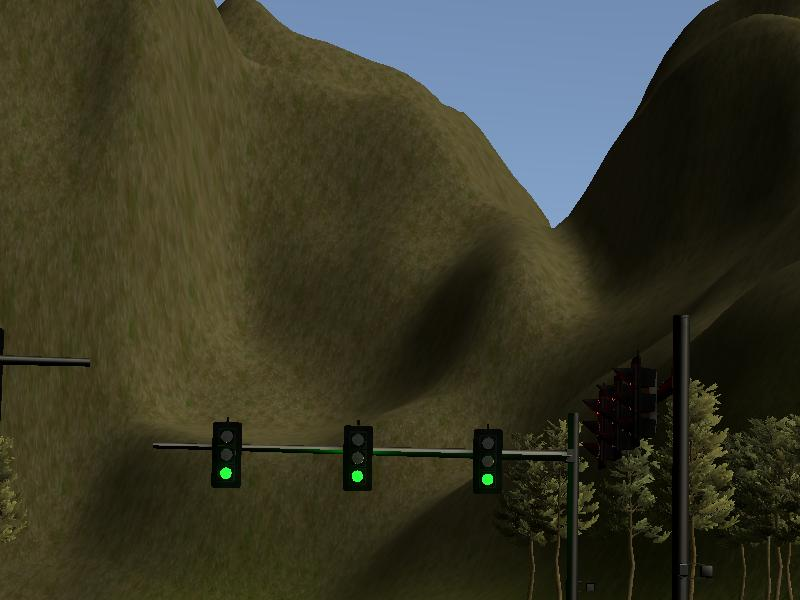green: (210, 420, 243, 488), (342, 424, 373, 493), (472, 427, 504, 493)
